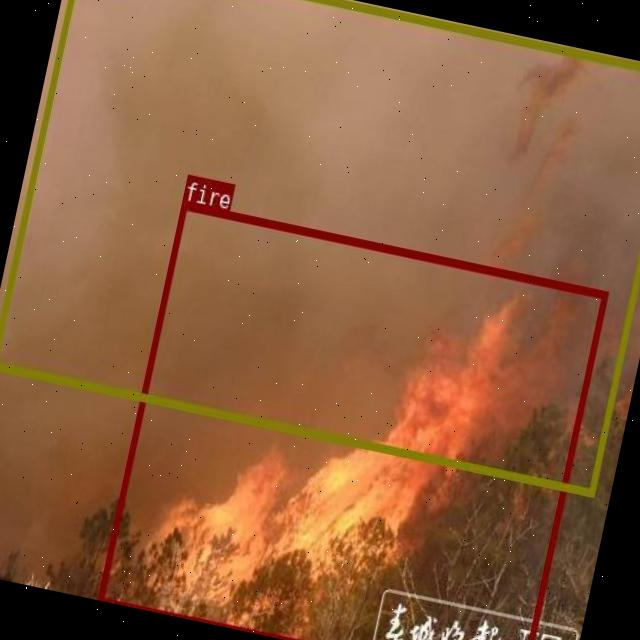fire: (96, 198, 607, 640)
smoke: (0, 0, 640, 494)
